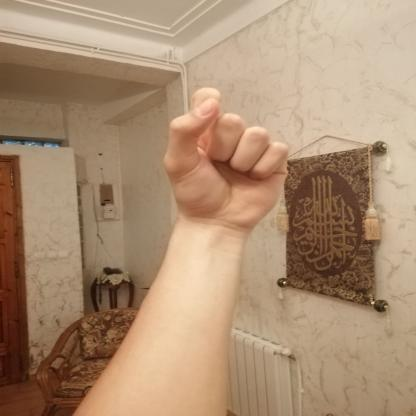FAA: (152, 77, 298, 239)
